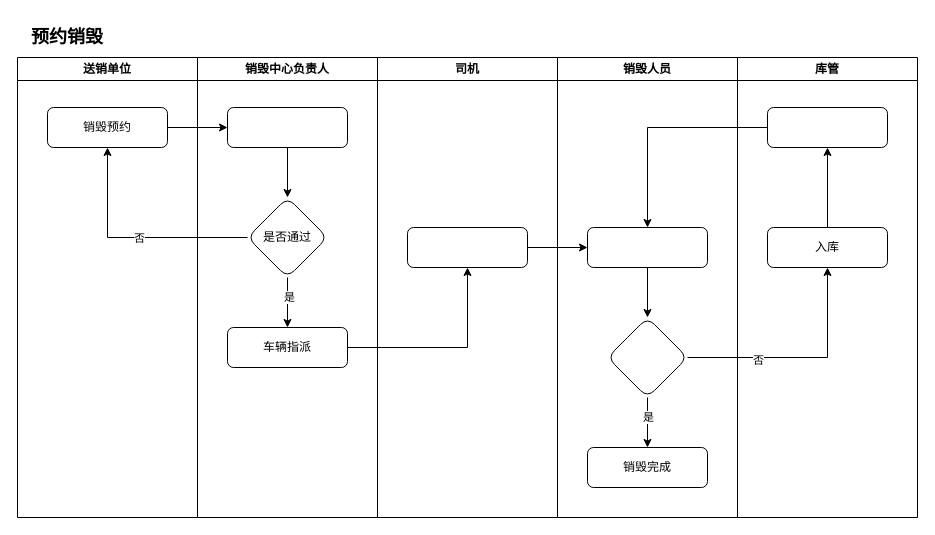
Some shapes in this 935 by 535 pixel diagram are drawn without their labels. Each missing label, with the centre of its shape:
出库: pixel 827 127
司机接单: pixel 467 247
当天能否销毁: pixel 647 357
销毁: pixel 647 247
预约审核: pixel 287 127
